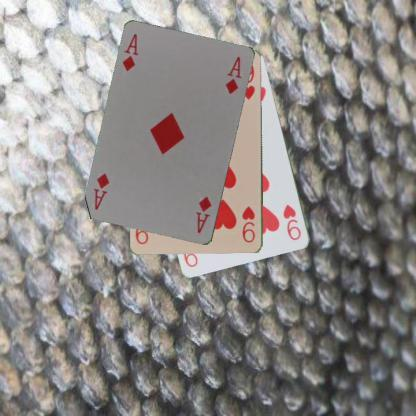9h: (281, 202, 303, 242), (240, 203, 256, 244)
Ad: (120, 31, 140, 73), (193, 194, 213, 235)
